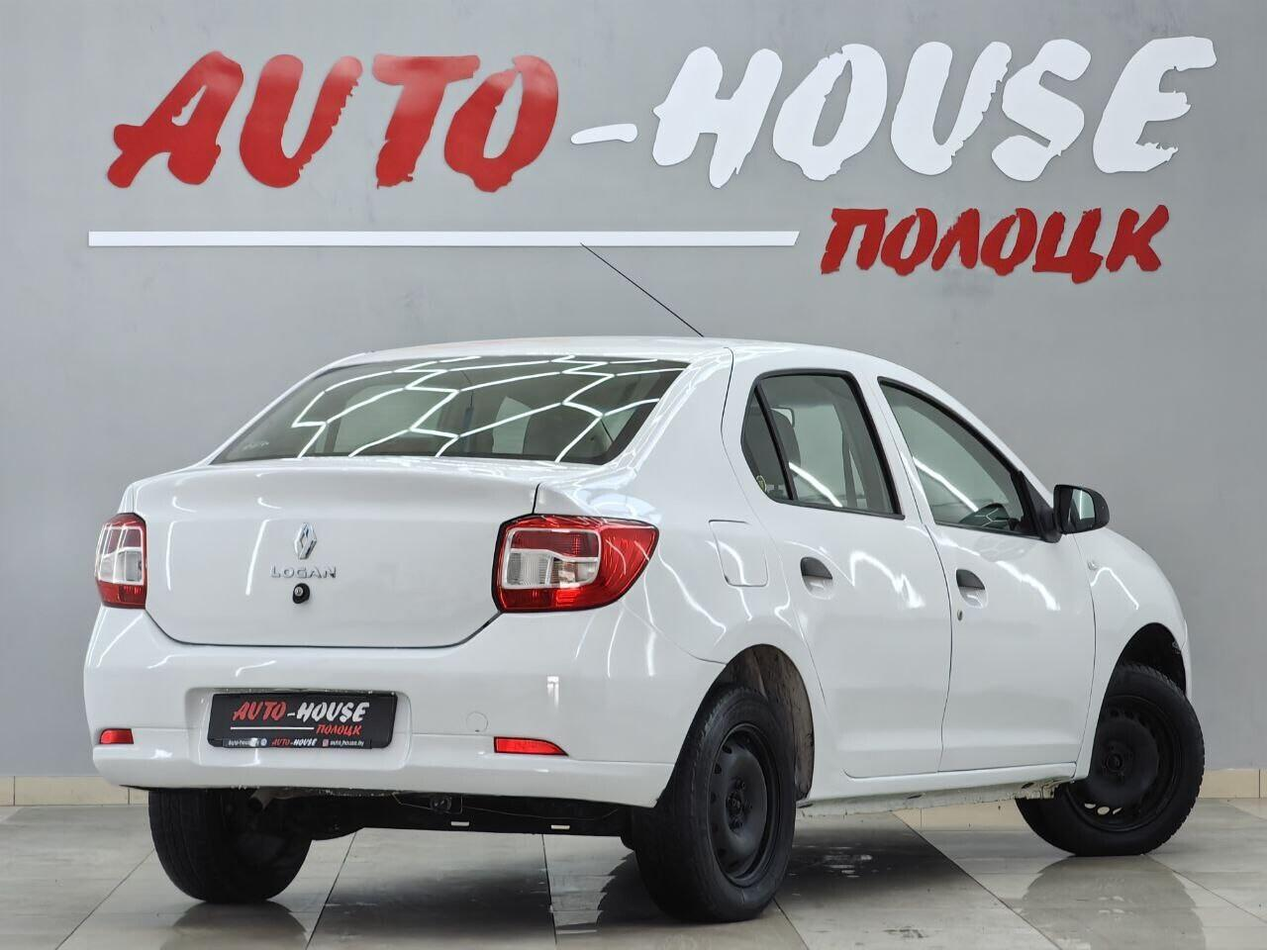Logan_2013-2018: (87, 333, 1218, 918)
